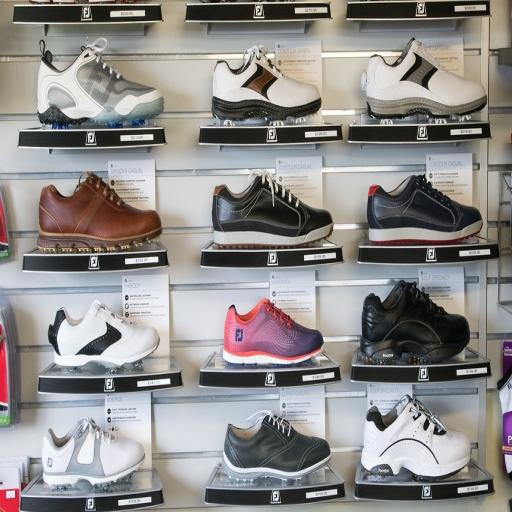shoe: (38, 38, 164, 124), (361, 38, 487, 118), (37, 172, 162, 252), (212, 170, 334, 247), (361, 394, 471, 479), (360, 280, 470, 362), (212, 45, 322, 120), (367, 175, 483, 244), (48, 300, 160, 368), (222, 411, 331, 480), (41, 417, 145, 485), (222, 298, 324, 365)
